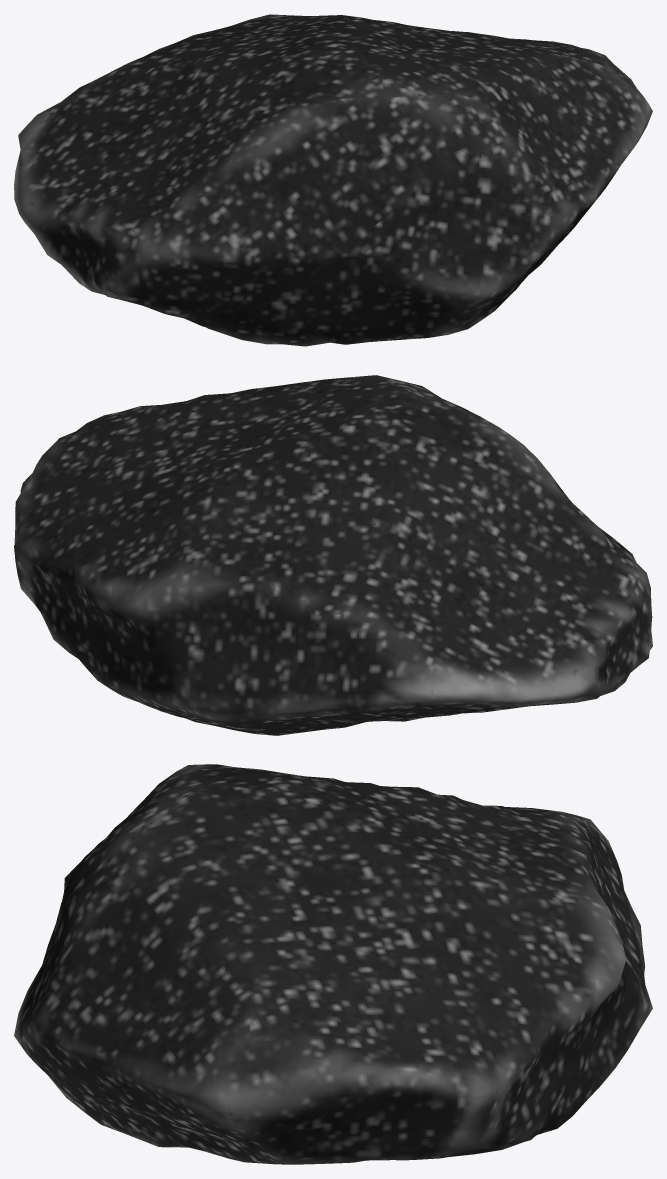
File: moon_rock-2.glb
3 renders of one model, top to bottom at view 1: azimuth 30°, elevation 25°; view 2: azimuth 150°, elevation 25°; view 3: azimuth 270°, elevation 25°, orthographic. The views are drawn at different scales.
Visible parts, largest first — view 1: moon_rock; view 2: moon_rock; view 3: moon_rock.
Part boxes in pixels (bbox=[...]): moon_rock: bbox=[14, 14, 652, 346]; moon_rock: bbox=[14, 375, 652, 735]; moon_rock: bbox=[14, 764, 652, 1164].
Size of the model in its own units: 0.0858 by 0.0363 by 0.069.
Materials: 1 (1 with a texture image).
